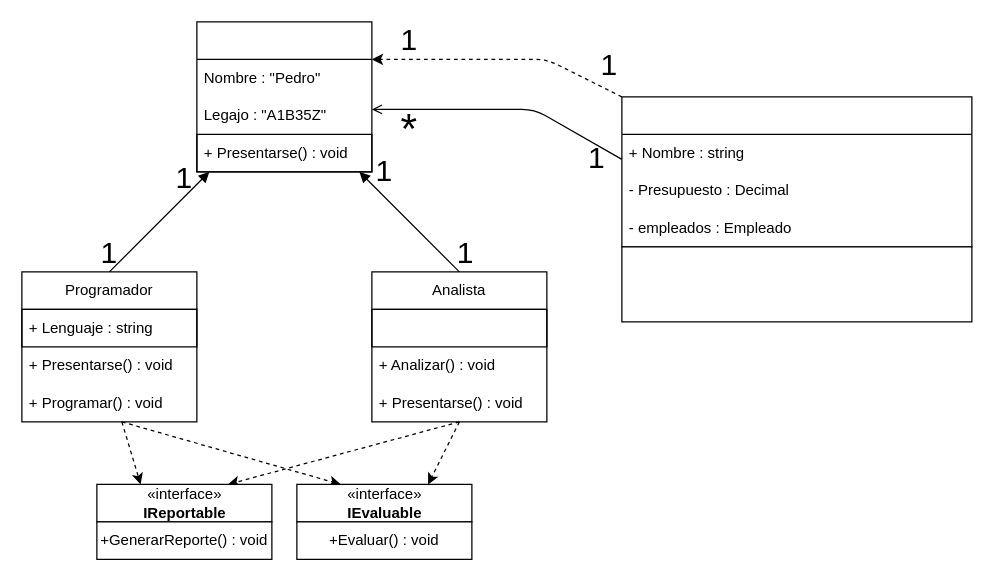
The diagram is 994 pixels wide and 581 high, and some of its shapes have lost their labels. The shapes that lost their labels are listed below. From the top down, each one's box as (x1, y1, x2, y2) in pixels, then its label:
(196, 21, 372, 172): e1 : Empleado
(621, 96, 972, 247): Proyecto
(621, 246, 972, 322): + AgregarEmpleado(empleados : Empleado) : void + MostrarEquipo() : void
(371, 308, 547, 347): + Area : string
